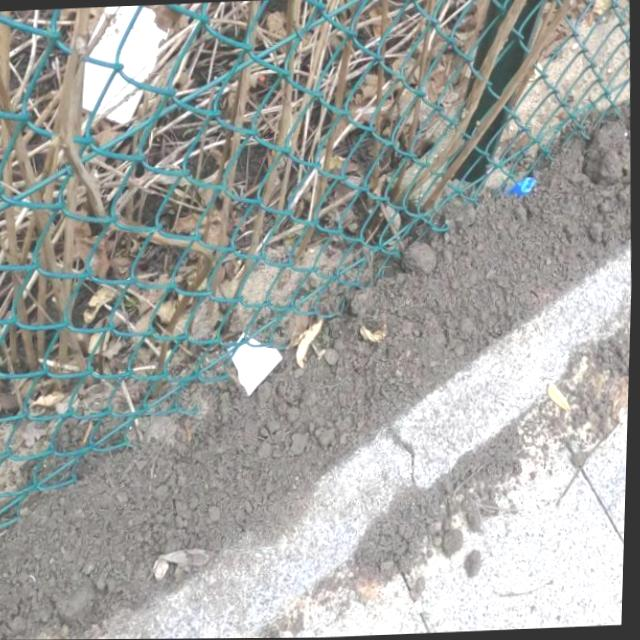Paper: (232, 330, 287, 398)
